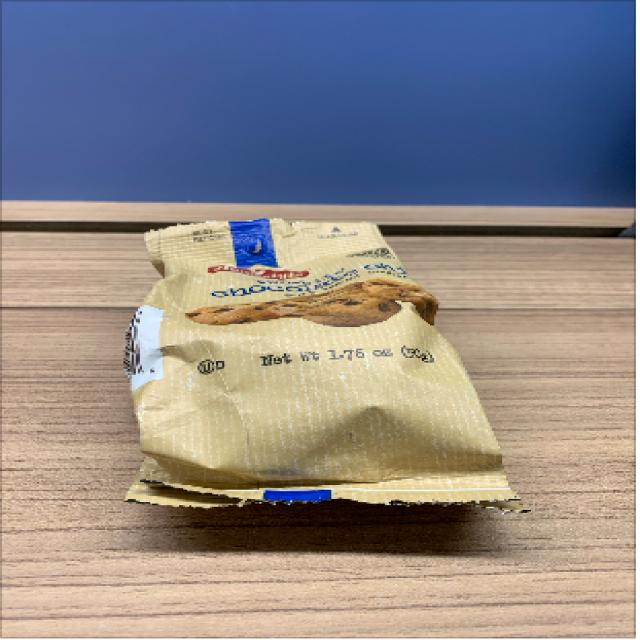object_name: (149, 231, 482, 510)
